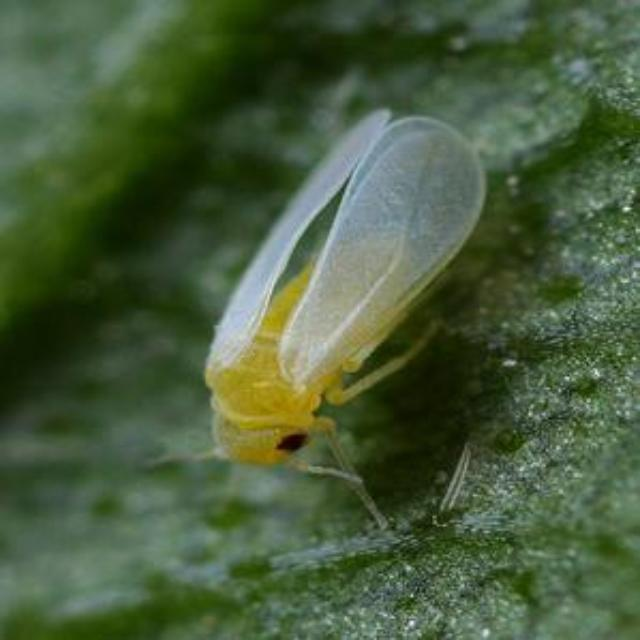Silverleaf whitefly: (143, 92, 522, 534)
